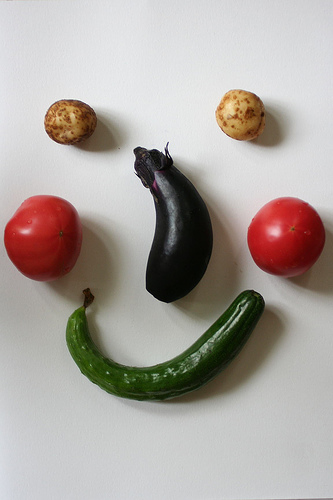eggplant: (127, 137, 224, 310)
